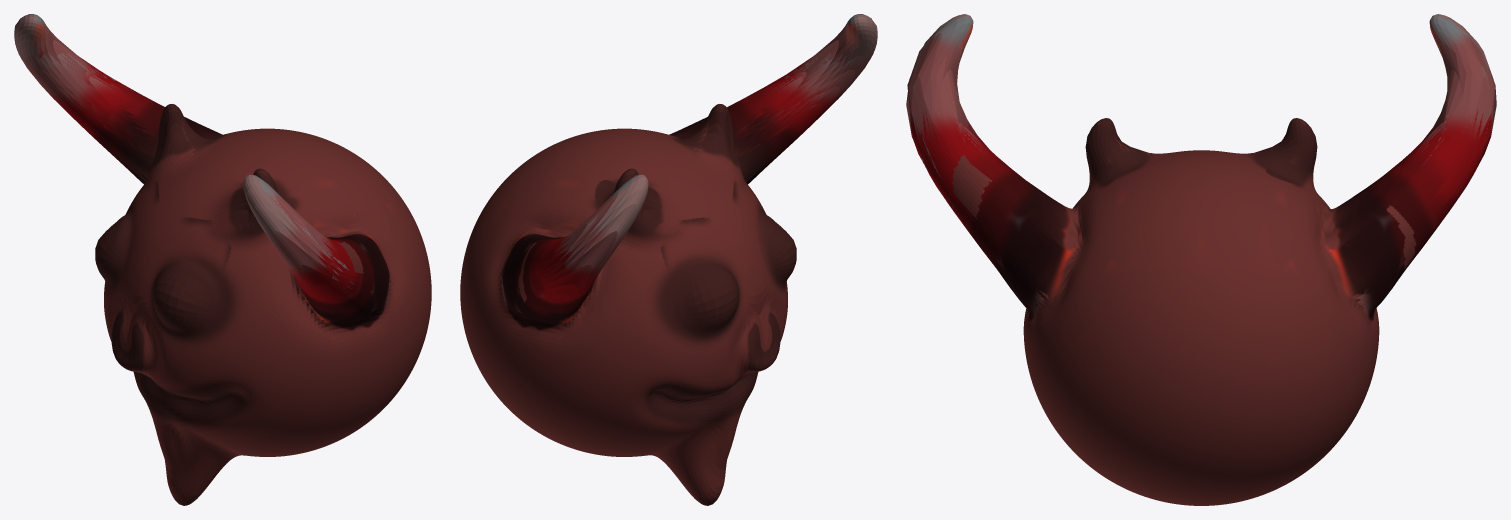
Rendered from Enemy.fbx.
The picture shows the model from 3 angles, left to right: view 1: azimuth 30°, elevation 25°; view 2: azimuth 150°, elevation 25°; view 3: azimuth 270°, elevation 25°; orthographic projection. The views are drawn at different scales.
Visible parts, largest first — view 1: Quad Sphere; view 2: Quad Sphere; view 3: Quad Sphere.
Boxes of the visible parts, x1,y1,x2,y2 form: Quad Sphere: (14, 14, 431, 505); Quad Sphere: (460, 14, 877, 505); Quad Sphere: (906, 14, 1496, 505).
Bounding box in the file's own units: 260 × 362 × 426.
Materials: 1 (1 with a texture image).
